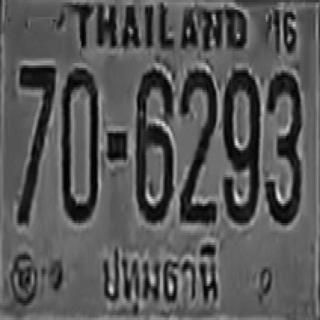N00: (60, 65, 98, 221), (223, 68, 260, 223)
N02: (180, 68, 216, 223)
N03: (265, 70, 301, 223)
N06: (135, 67, 173, 222)
N07: (17, 63, 55, 223)
N09: (223, 68, 259, 223)
P38: (90, 238, 224, 311)
